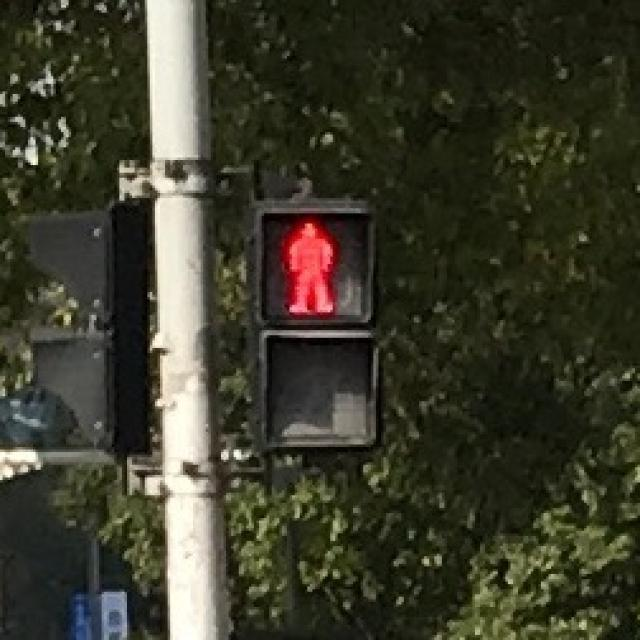red-crossing: (259, 206, 363, 320)
